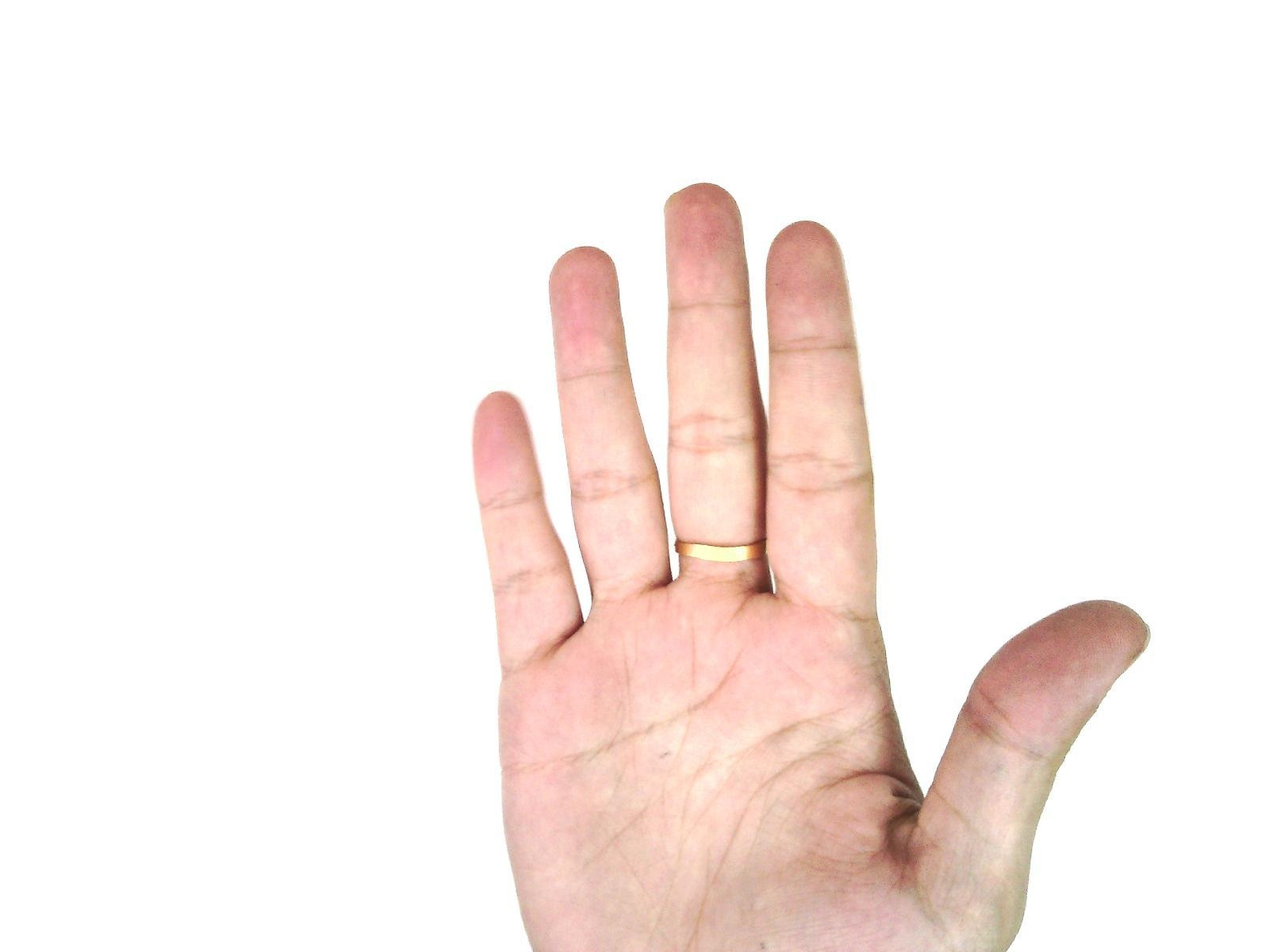open_palm: (467, 181, 1152, 951)
